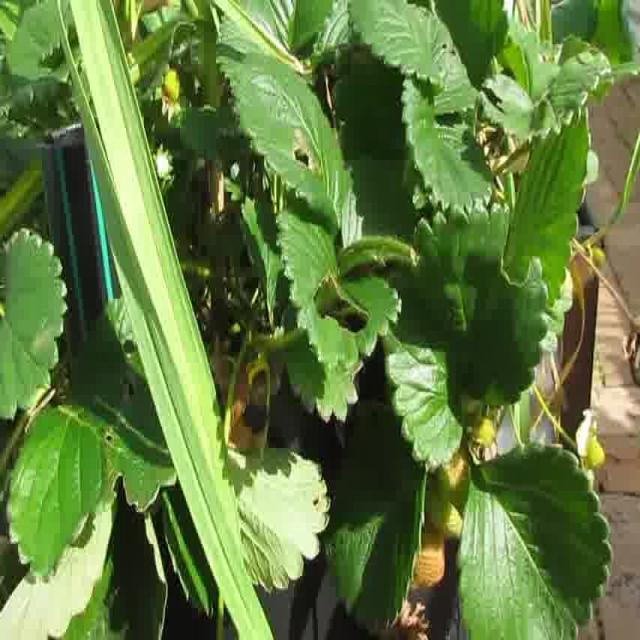Fruta sana: (402, 518, 446, 586), (425, 480, 466, 540), (438, 441, 472, 506), (470, 410, 494, 448), (165, 66, 180, 105)
Moho gris: (627, 317, 640, 387)
